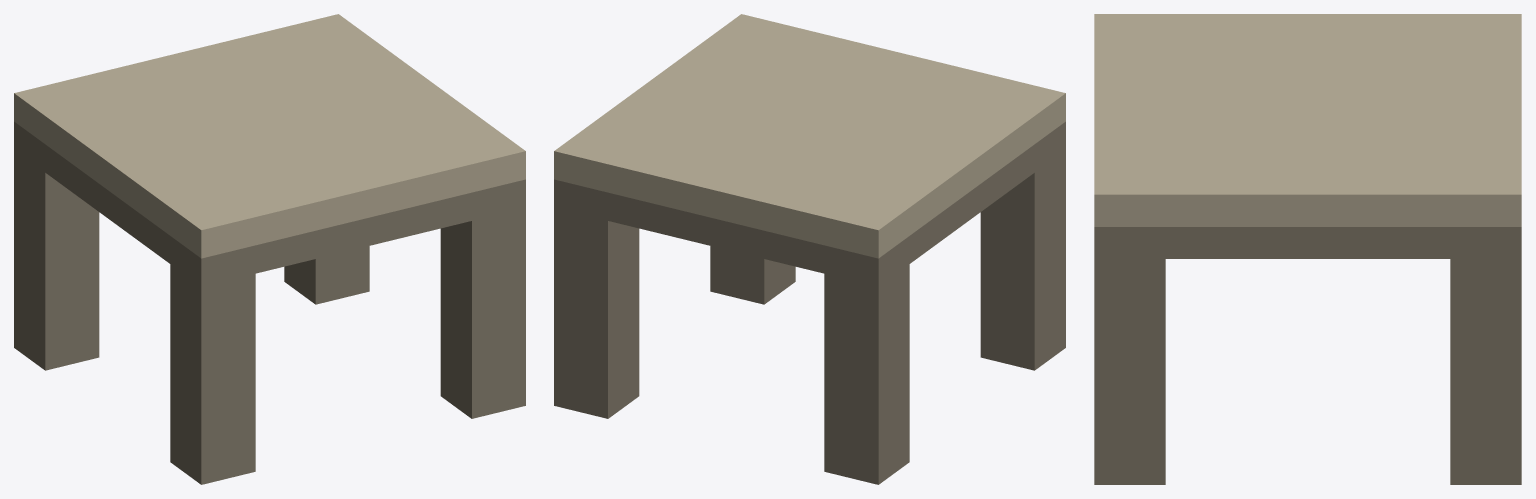
Rendered from escritorio_escriba_01.glb.
3 renders of one model, left to right at view 1: azimuth 30°, elevation 25°; view 2: azimuth 150°, elevation 25°; view 3: azimuth 270°, elevation 25°, orthographic. The views are drawn at different scales.
Visible parts, largest first — view 1: escritorio_escriba; view 2: escritorio_escriba; view 3: escritorio_escriba.
Boxes of the visible parts, left/top/right/bottom form: escritorio_escriba: left=14, top=14, right=525, bottom=484; escritorio_escriba: left=554, top=14, right=1065, bottom=484; escritorio_escriba: left=1094, top=14, right=1521, bottom=484.
Size of the model in its own units: 1 by 0.75 by 1.
